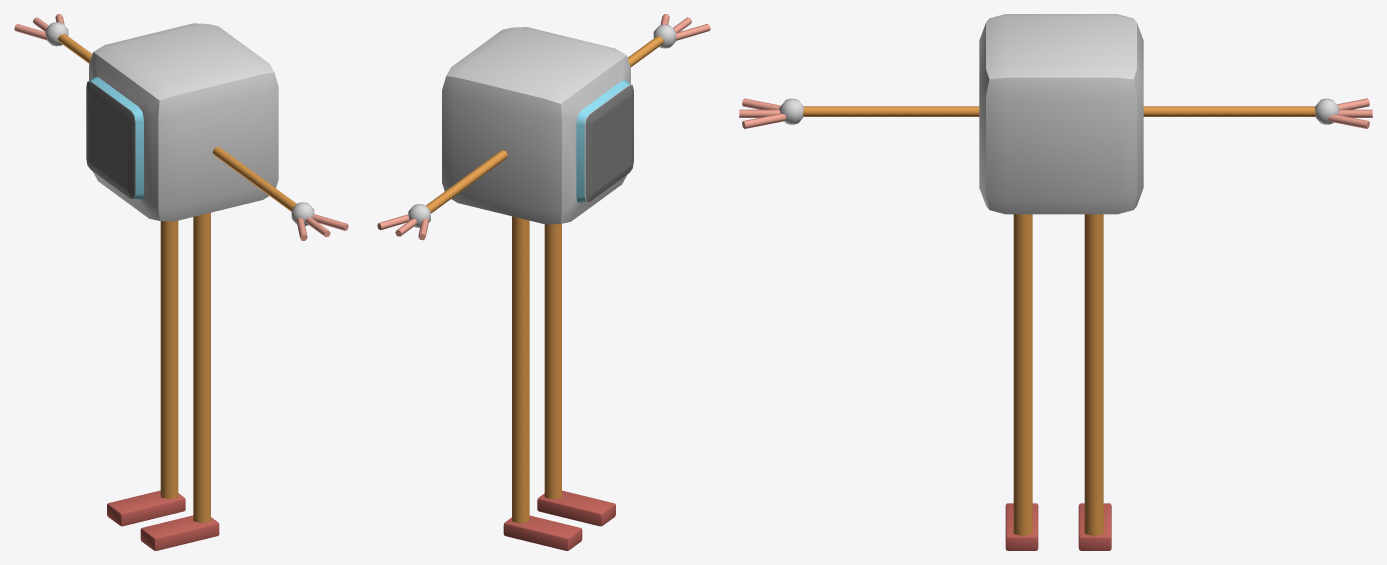
Rendered from S_pnj.fbx.
3 views of the same model, side by side, from view 1: azimuth 30°, elevation 25°; view 2: azimuth 150°, elevation 25°; view 3: azimuth 270°, elevation 25° (orthographic). The views are drawn at different scales.
Parts seen in each view (by area): view 1: Box001, Cylinder002, Cylinder001, Face, Box004, Box003, Cylinder008; view 2: Box001, Cylinder001, Cylinder002, Face, Box003, Box004, Cylinder003, Cylinder008; view 3: Box001, Cylinder001, Cylinder002, Cylinder008, Cylinder003, Box004, Box003.
Boxes of the visible parts, <box> form: Box001: <box>88,23,278,221</box>; Cylinder002: <box>193,212,210,523</box>; Cylinder001: <box>160,221,178,499</box>; Face: <box>86,81,134,198</box>; Box004: <box>140,515,219,550</box>; Box003: <box>107,490,185,526</box>; Cylinder008: <box>212,147,296,211</box>; Box001: <box>442,27,631,224</box>; Cylinder001: <box>512,216,529,523</box>; Cylinder002: <box>544,224,561,499</box>; Face: <box>585,85,633,201</box>; Box003: <box>503,515,582,550</box>; Box004: <box>537,490,615,526</box>; Cylinder003: <box>426,150,507,213</box>; Cylinder008: <box>628,36,663,67</box>; Box001: <box>979,14,1143,214</box>; Cylinder001: <box>1084,214,1103,536</box>; Cylinder002: <box>1013,214,1032,536</box>; Cylinder008: <box>803,106,979,116</box>; Cylinder003: <box>1143,106,1315,116</box>; Box004: <box>1005,503,1038,550</box>; Box003: <box>1078,503,1111,550</box>.
Size of the model in its own units: 32.39 by 102 by 116.
